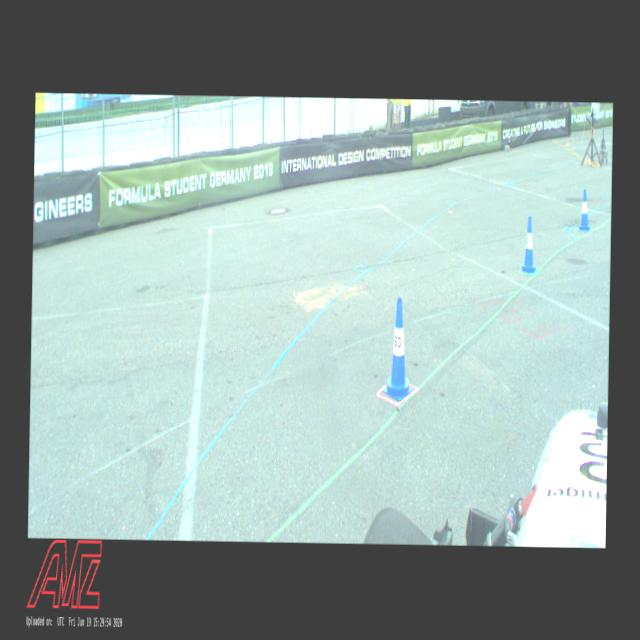blue_cone: (382, 296, 413, 401), (520, 215, 536, 272), (579, 189, 590, 230)
